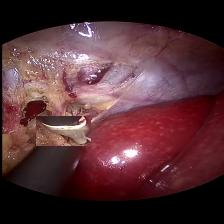Hook: (35, 116, 90, 146)
